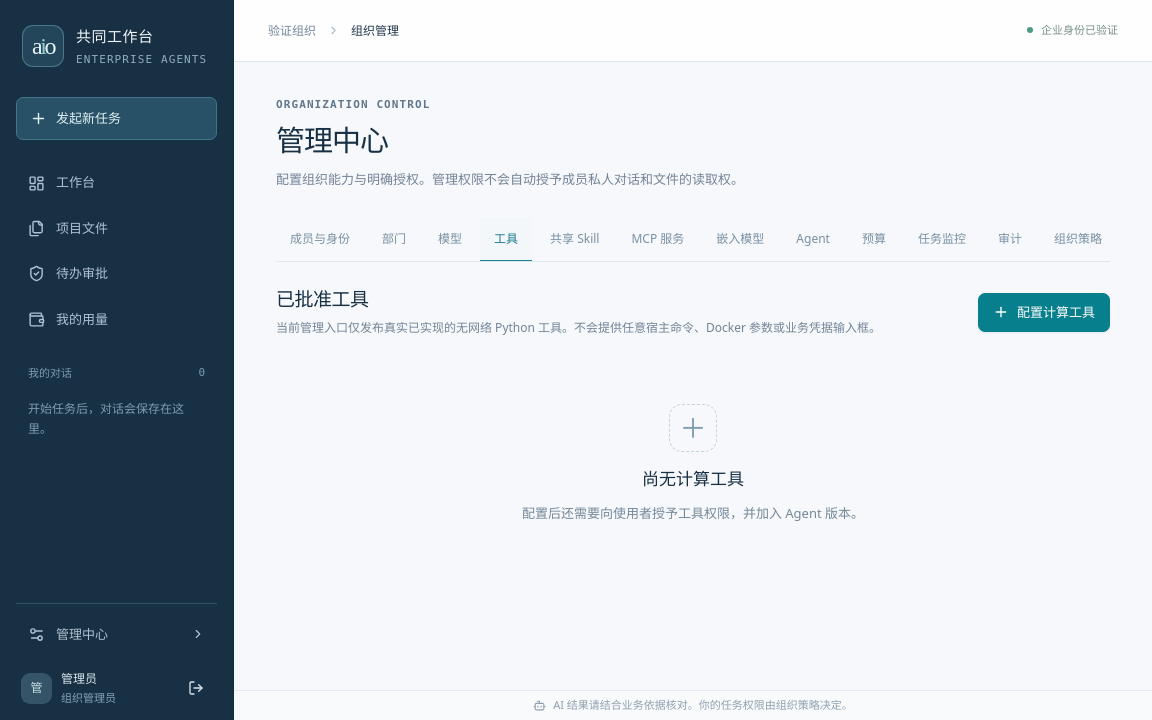
Test: tool configuration cannot ask for arbitrary shell or privileged Docker flags
Click the button "配置计算工具" at (1044, 312), box [978,293,1110,332]
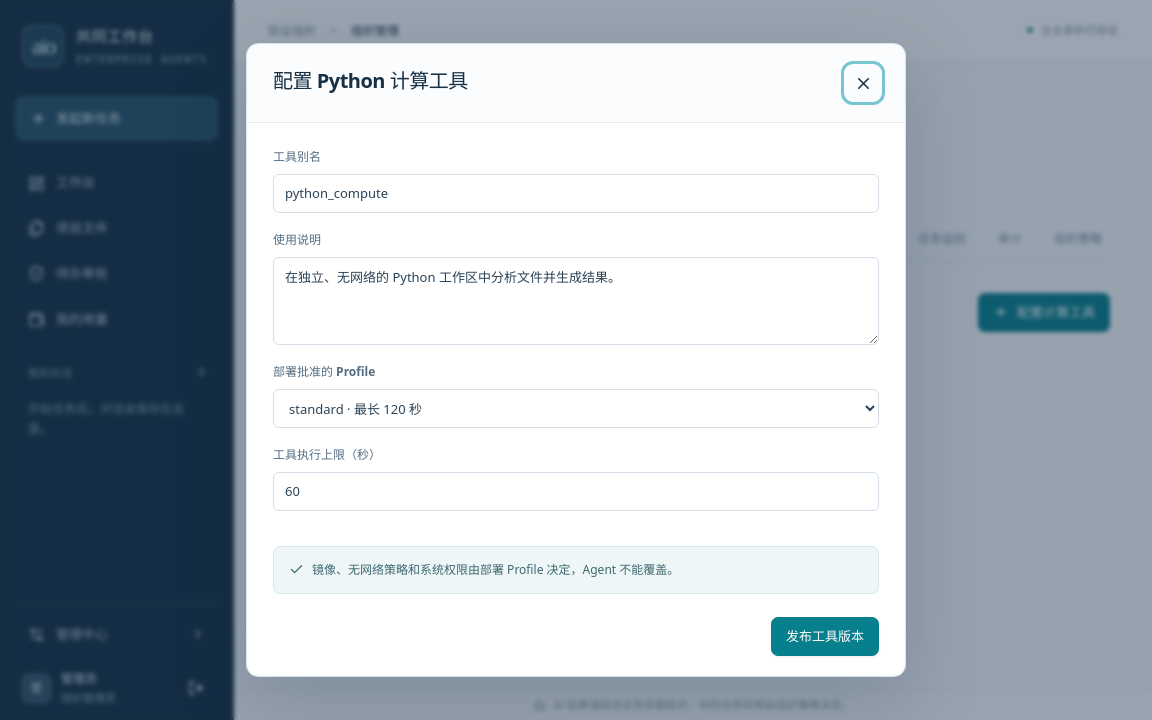
Now the dropdown labelled "部署批准的 Profile" shows "standard · 最长 120 秒", box [273,389,879,428]
Now the text "镜像、无网络策略和系统权限由部署 Profile 决定，Agent 不能覆盖。" is shown, box [312,560,679,580]
